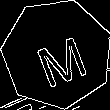M_N: (26, 22, 88, 86)
